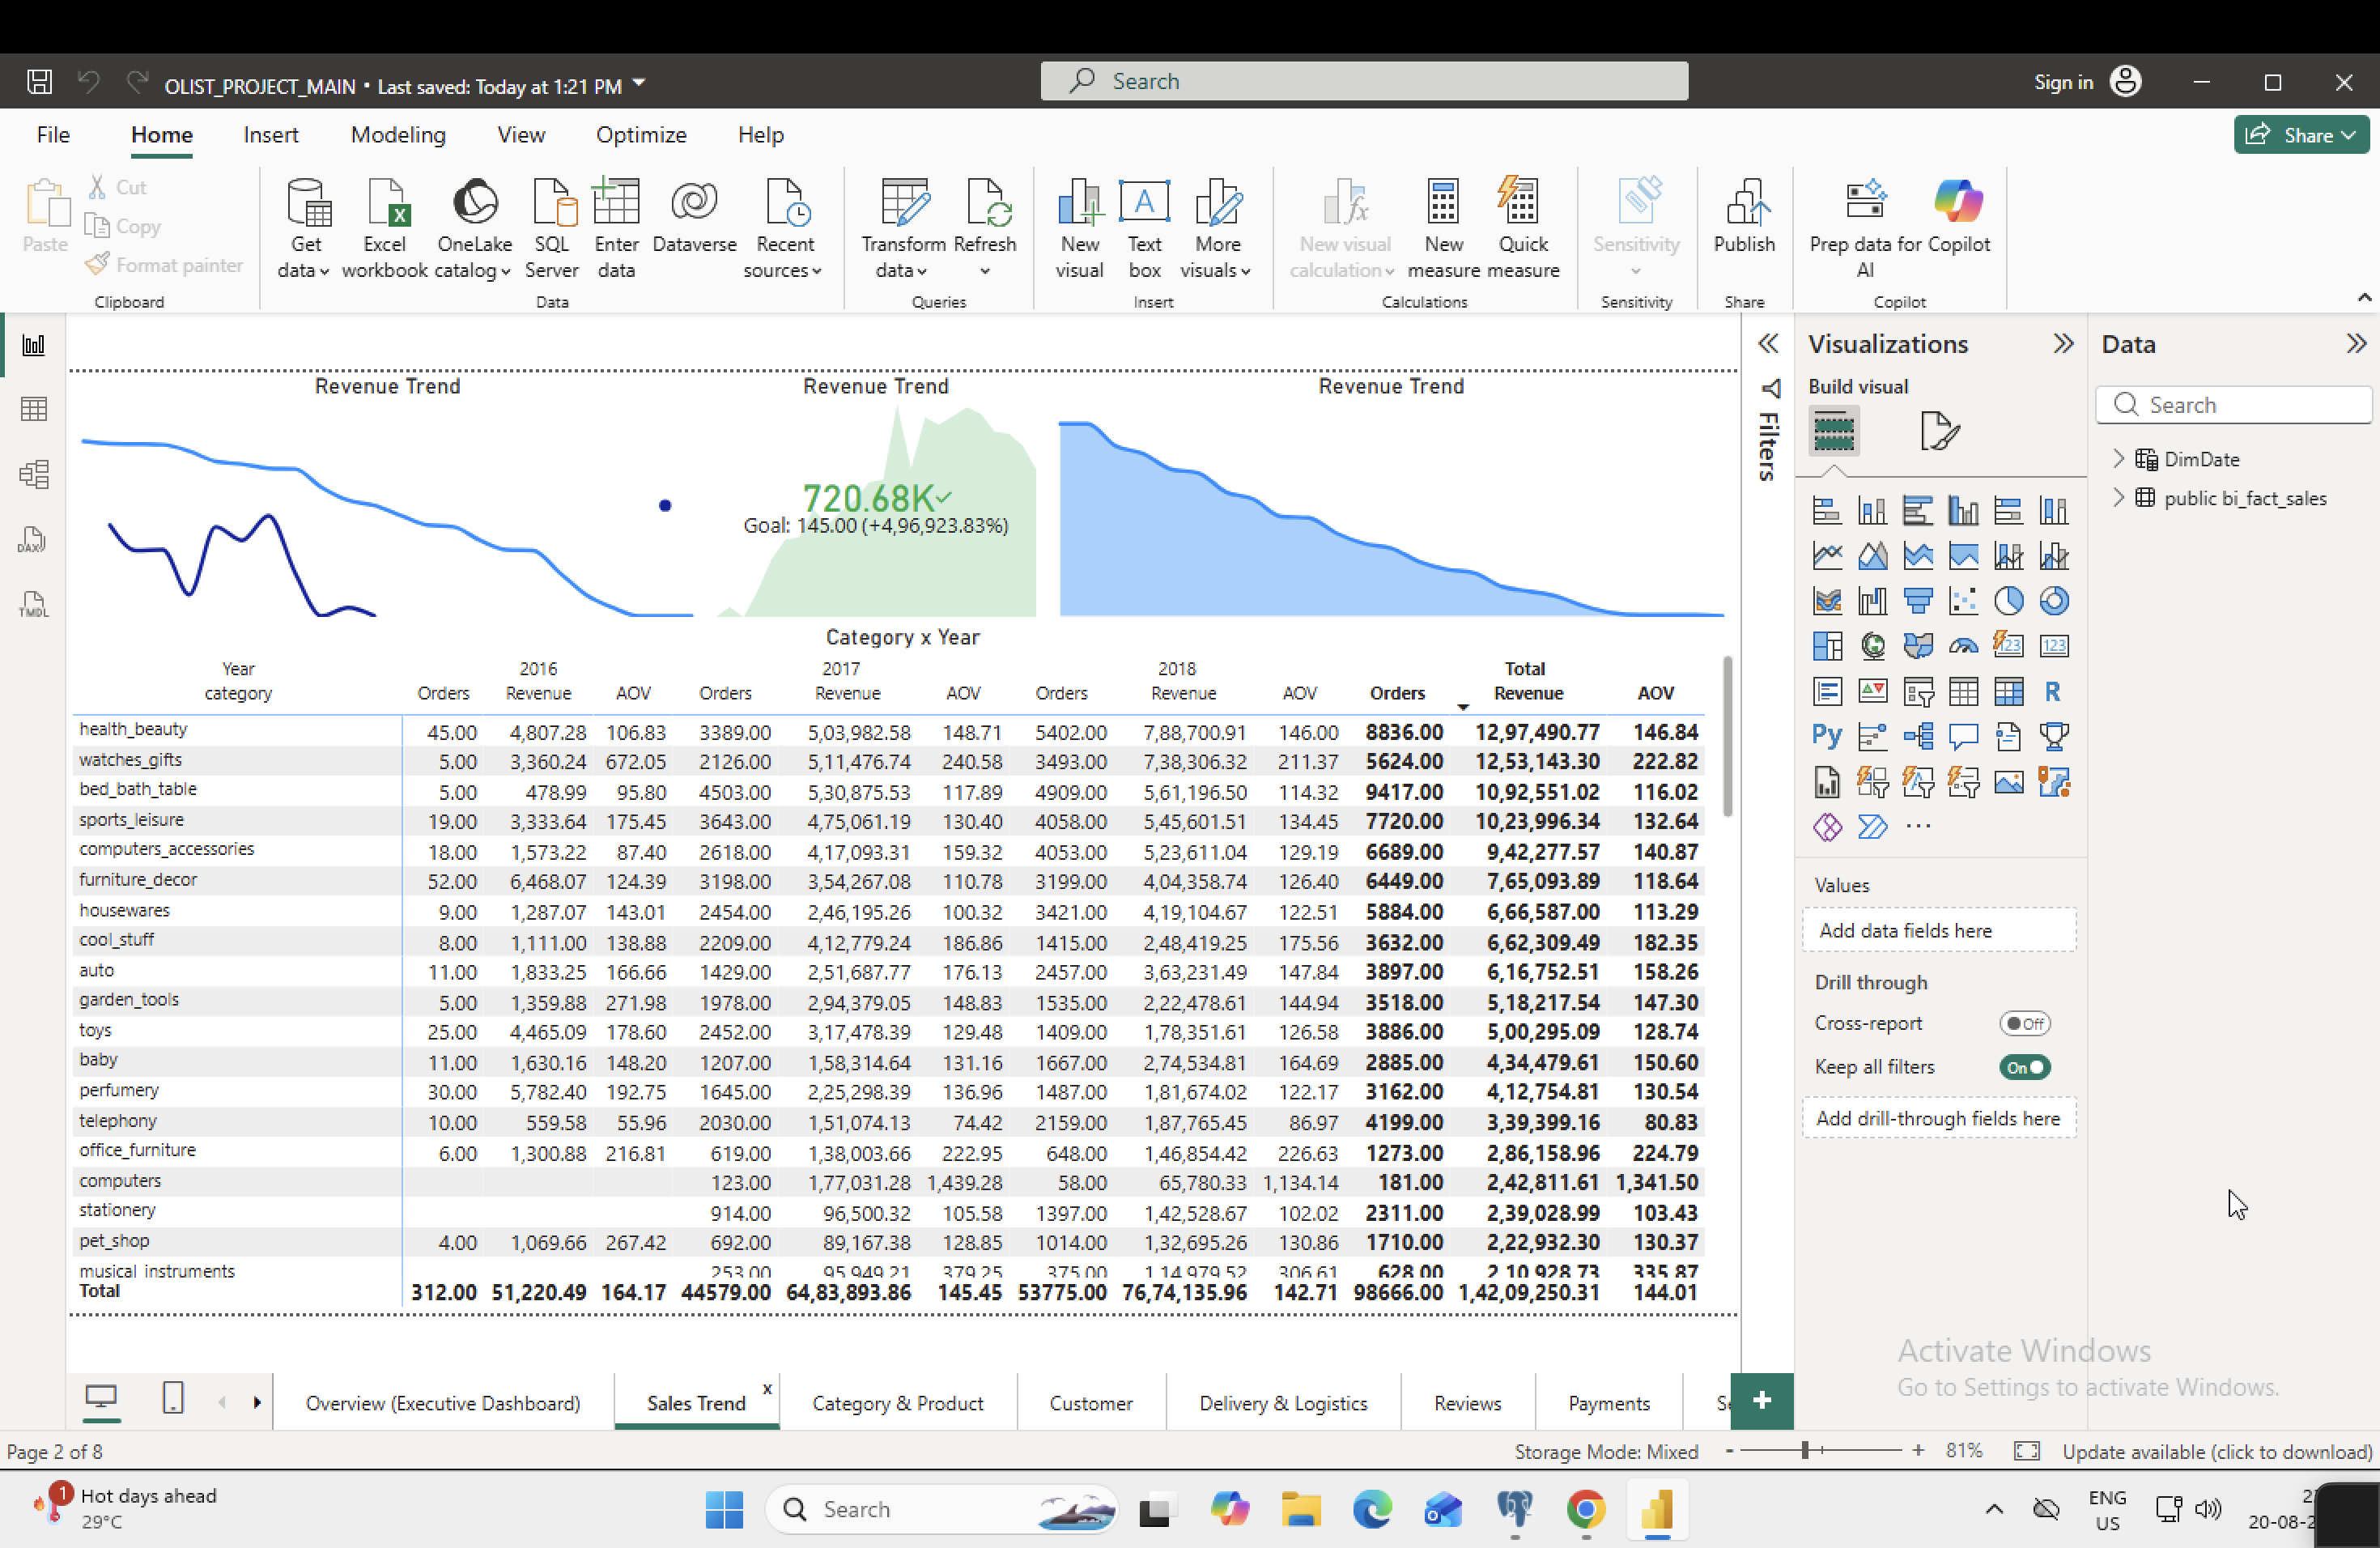

This screenshot's page, from the dashboard's own definition file:
{"tool":"powerbi","page":{"name":"Sales Trend","canvas":[1280,720],"ordinal":1},"visuals":[{"type":"lineChart","title":"Revenue Trend","fields":{"Category":["DimDate.Year-Month"],"Y":["public bi_fact_sales.Revenue","public bi_fact_sales.Revenue LY"]},"box":[0,0,491.2,192.3],"z":0},{"type":"kpi","title":"Revenue Trend","fields":{"TrendLine":["DimDate.Year-Month"],"Indicator":["public bi_fact_sales.Rolling 30D Revenue"],"Goal":["public bi_fact_sales.Revenue"]},"box":[491.2,0,255.5,192.3],"z":1000},{"type":"areaChart","title":"Revenue Trend","fields":{"Category":["DimDate.Year-Month"],"Y":["public bi_fact_sales.Revenue YTD"]},"box":[746.7,0,533.3,192.3],"z":2000},{"type":"pivotTable","title":"Category x Year","fields":{"Rows":["public bi_fact_sales.category"],"Values":["public bi_fact_sales.Orders","public bi_fact_sales.Revenue","public bi_fact_sales.AOV"],"Columns":["DimDate.Year"]},"box":[0,192.3,1280,528.1],"z":3000}]}

Visuals, with their boxes on the page's 1280x720 design canvas (x1, y1, x2, y2). These are canvas units, not pixel positions in the 2380x1548 screenshot, which may show the page scaled, cropped or inside an application window:
"Revenue Trend" lineChart: l=0, t=0, r=491, b=192
"Revenue Trend" kpi: l=491, t=0, r=747, b=192
"Revenue Trend" areaChart: l=747, t=0, r=1280, b=192
"Category x Year" pivotTable: l=0, t=192, r=1280, b=720
